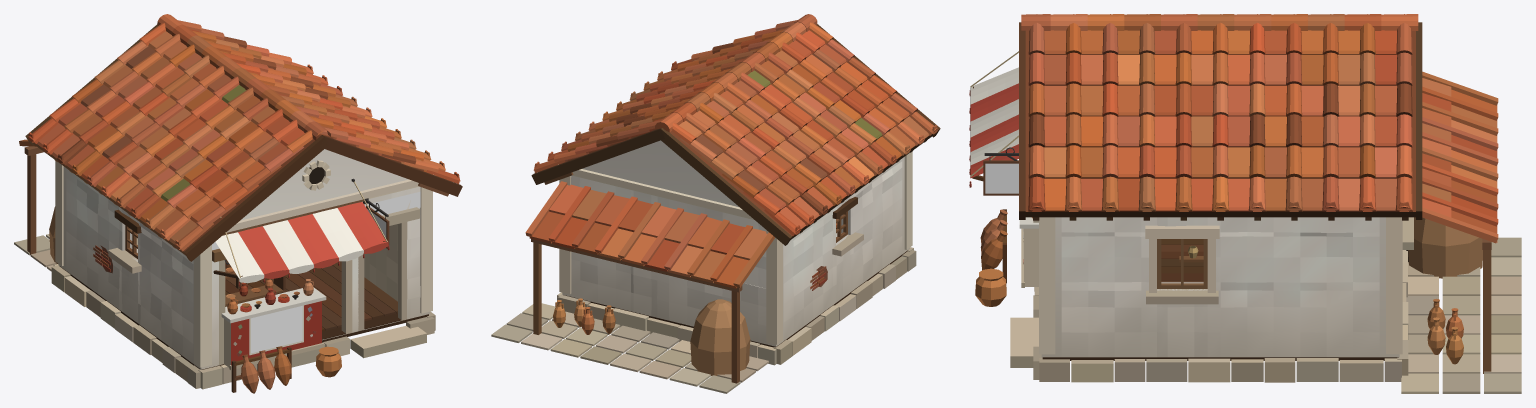
The model's file is artisan_3_1.glb.
3 renders of one model, left to right at view 1: azimuth 30°, elevation 25°; view 2: azimuth 150°, elevation 25°; view 3: azimuth 270°, elevation 25°, orthographic. The views are drawn at different scales.
Visible parts, largest first — view 1: House, Walls, Rooms, Frieze; view 2: House, Walls; view 3: House, Walls, Rooms.
Part boxes in pixels (x1,y1,x2,y2): House: [14, 14, 462, 393]; Walls: [58, 149, 429, 369]; Rooms: [136, 224, 397, 331]; Frieze: [212, 191, 420, 250]; House: [491, 14, 940, 393]; Walls: [562, 140, 909, 346]; House: [969, 14, 1521, 393]; Walls: [1041, 217, 1399, 357]; Rooms: [1161, 239, 1203, 282].
Bounding box in the file's own units: 4.45 × 3.53 × 6.01.
Materials: 8 (8 with a texture image).
